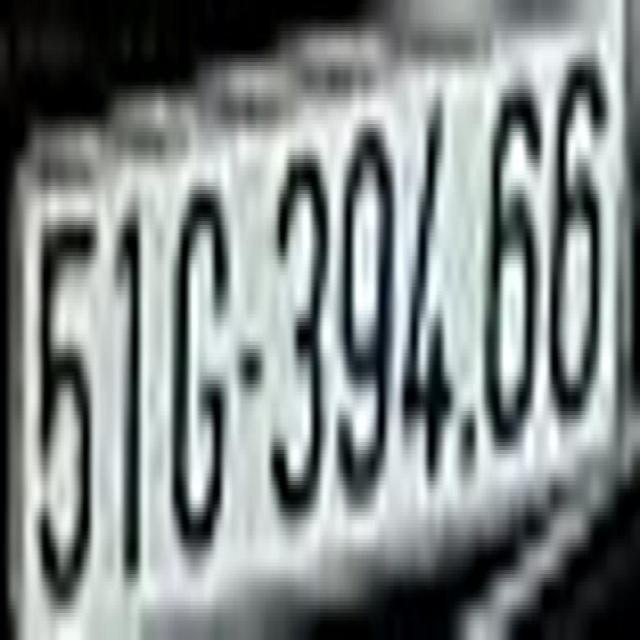1: (110, 198, 144, 590)
3: (270, 140, 326, 536)
4: (403, 93, 458, 493)
5: (35, 198, 97, 606)
6: (548, 39, 611, 442), (480, 62, 544, 458)
9: (336, 128, 398, 512)
G: (170, 170, 228, 566)
